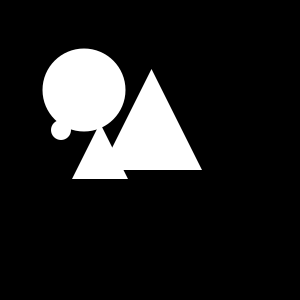rectangle: (43, 48, 126, 132), (51, 120, 71, 140)
triangle: (101, 69, 202, 170), (72, 123, 128, 179)
